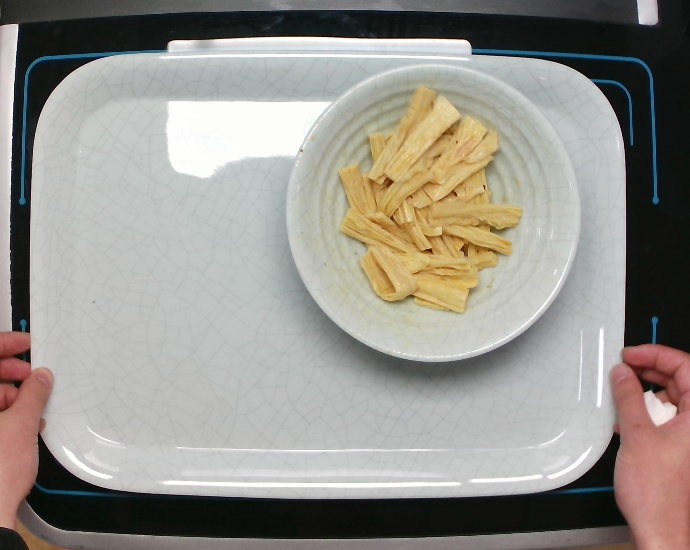JYsf-Xiao_Tang_Wan: (282, 56, 594, 380)
